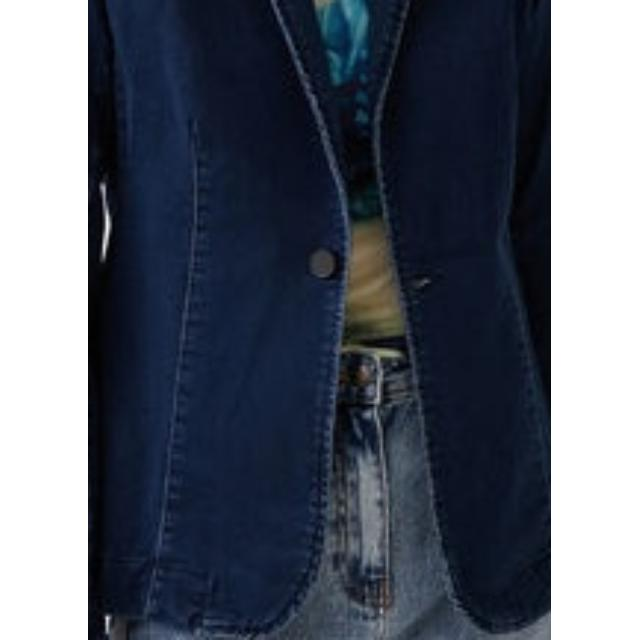denim: (90, 0, 280, 616)
